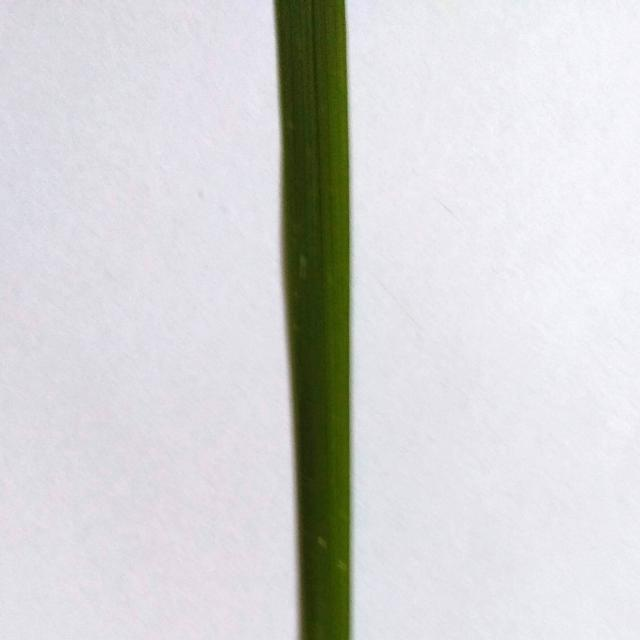Rice_Healthy: (275, 0, 351, 640)
